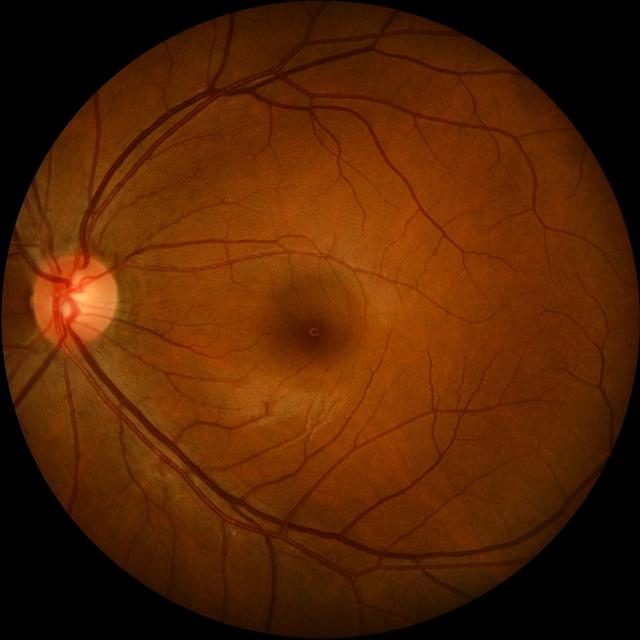OC: (57, 273, 98, 320)
OD: (32, 254, 116, 346)
